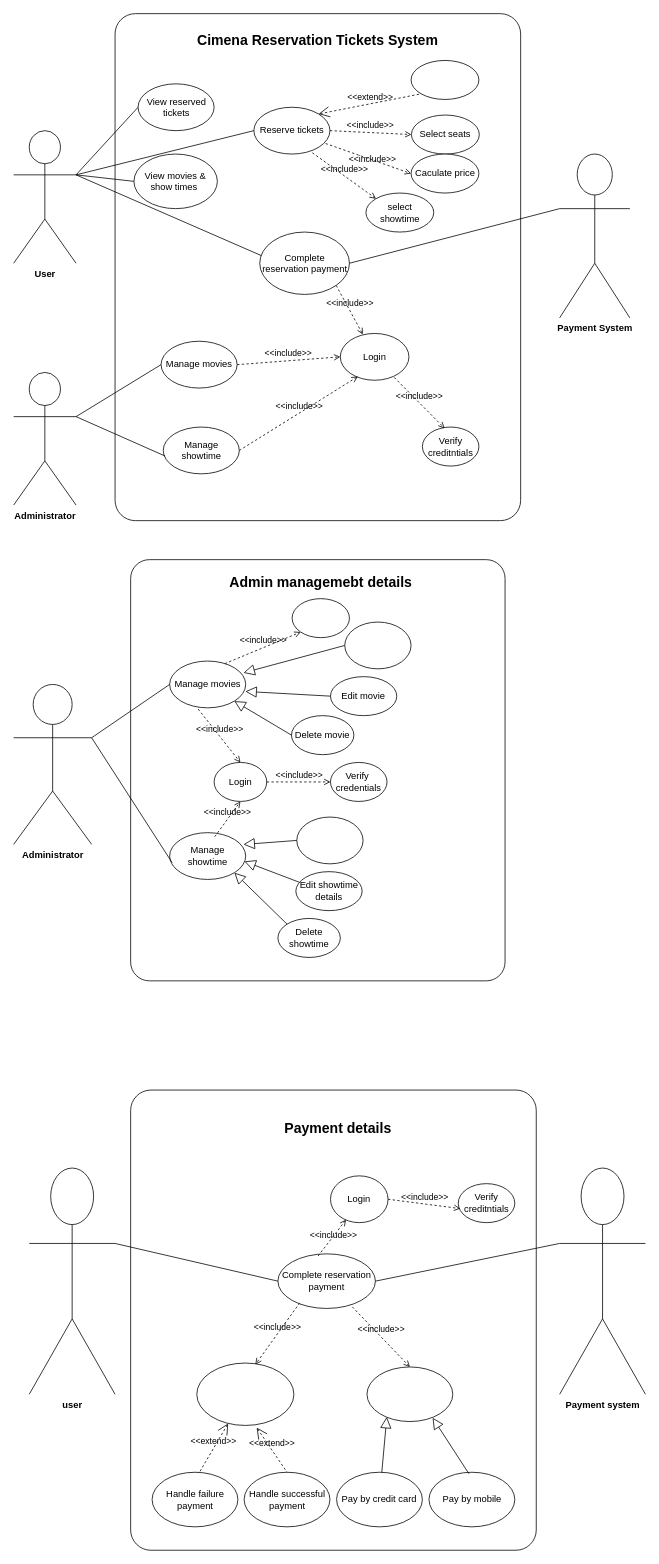
The diagram is 659 pixels wide and 1564 high, and some of its shapes have lost their labels. The shapes that lost their labels are listed below. From the top down, each one's box as (x1, y1, x2, y2) in pixels, then its label:
(410, 60, 479, 99): Cancel reservation
(291, 598, 349, 638): List all movies
(344, 621, 411, 669): Add movie
(296, 816, 363, 864): Create showtime
(196, 1362, 294, 1425): Process payment
(366, 1366, 453, 1422): Choose payment method
